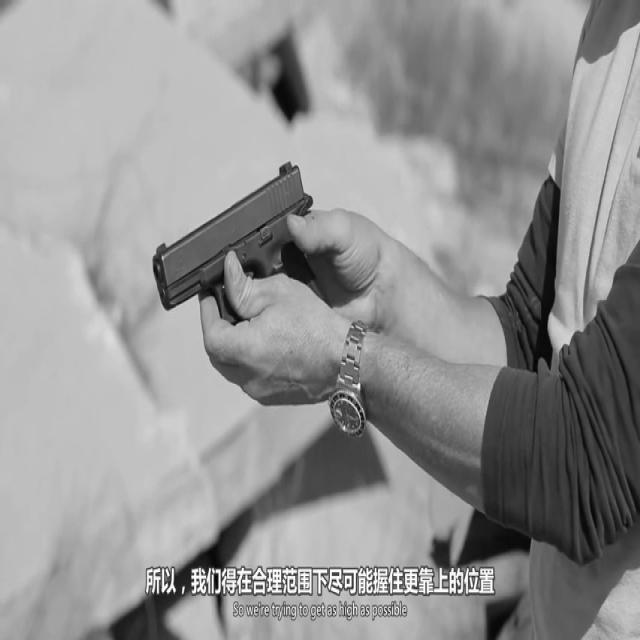Hand-Gun: (113, 131, 399, 517)
